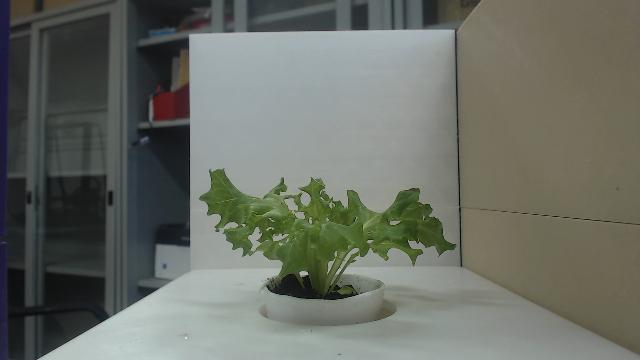Vegetative Stage: (198, 166, 458, 300)
